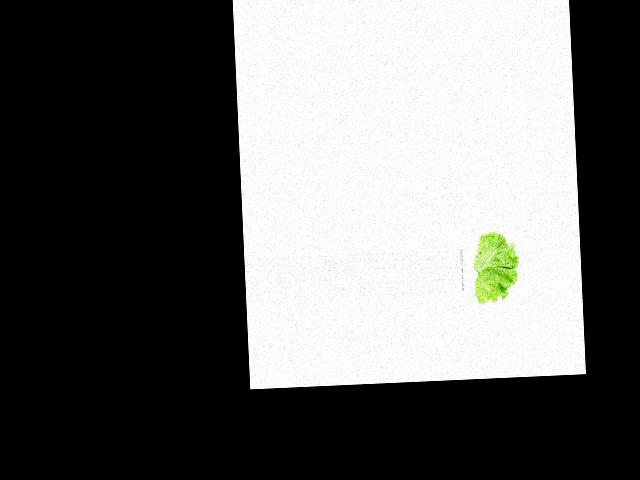lettuce: (462, 229, 521, 305)
